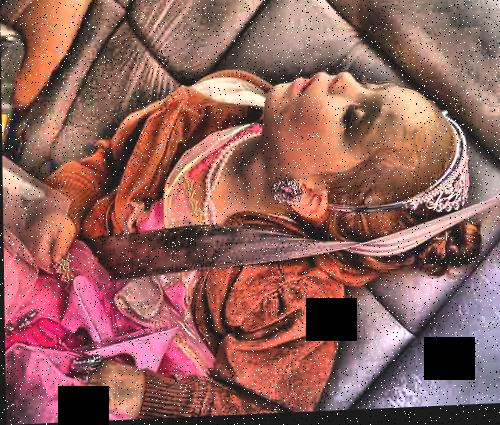seatbelt: (80, 199, 500, 297)
